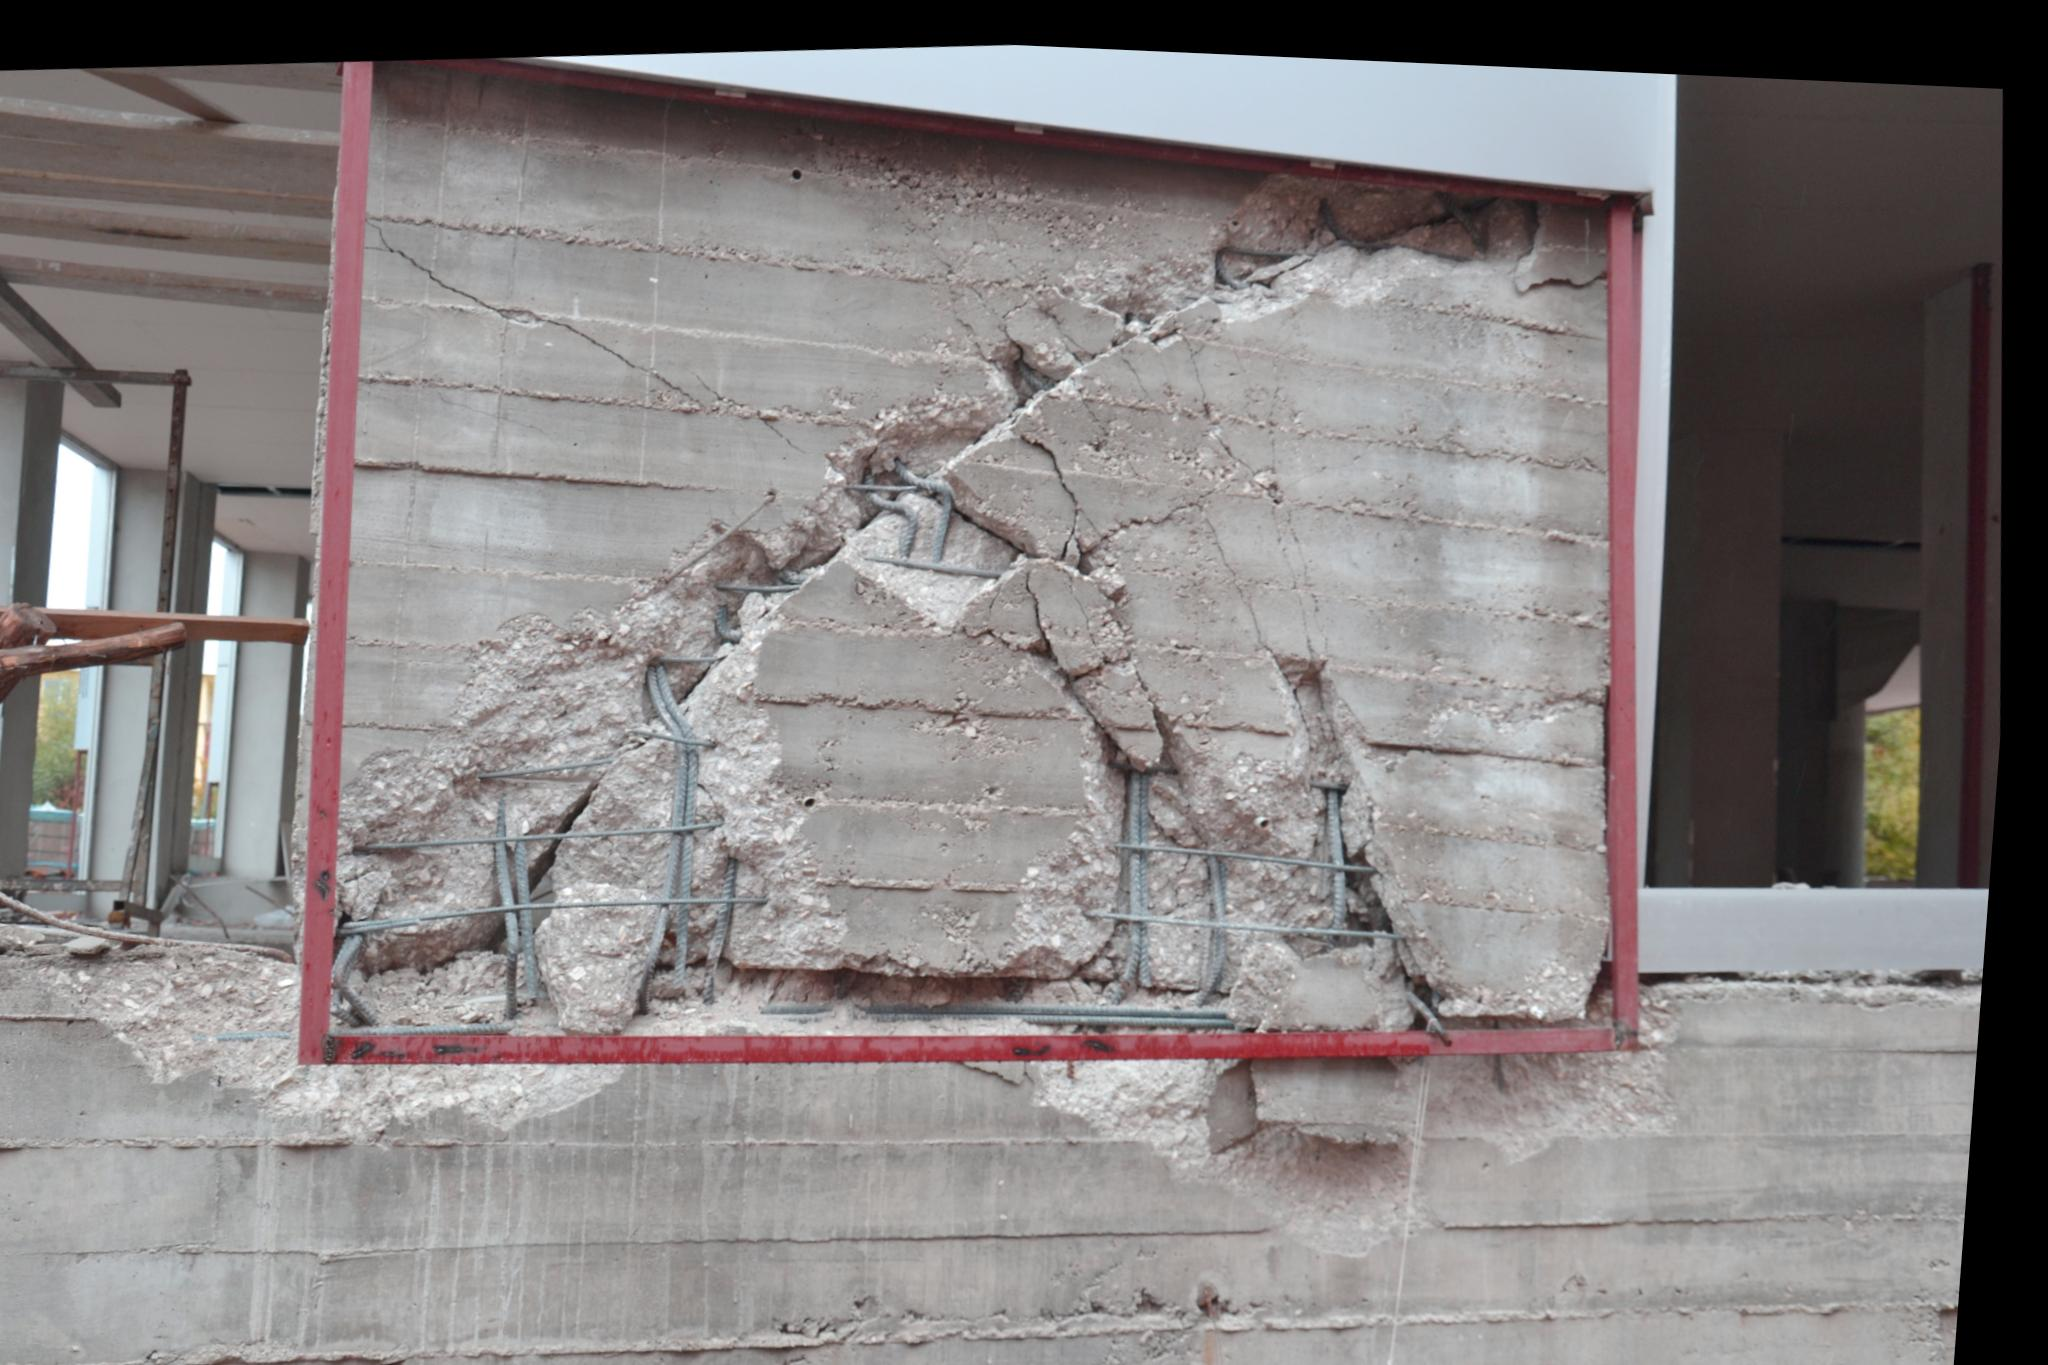exposed_rebar: (332, 896, 769, 1027), (640, 661, 700, 1010), (847, 459, 1002, 577), (353, 820, 725, 850), (1086, 909, 1398, 945), (1113, 769, 1153, 1002), (1118, 841, 1378, 876), (703, 856, 737, 1004), (1197, 855, 1229, 1009), (516, 841, 539, 1001), (1322, 785, 1346, 932), (330, 1022, 519, 1037), (480, 759, 617, 778), (495, 794, 516, 905), (502, 913, 519, 1018), (713, 582, 801, 596), (713, 603, 742, 644), (713, 582, 801, 594), (653, 657, 705, 666), (676, 969, 684, 977)
spalling: (33, 169, 1678, 1255)
